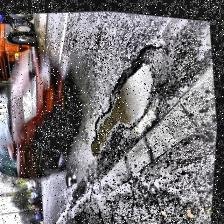pothole: (72, 42, 174, 162), (64, 164, 84, 186)
